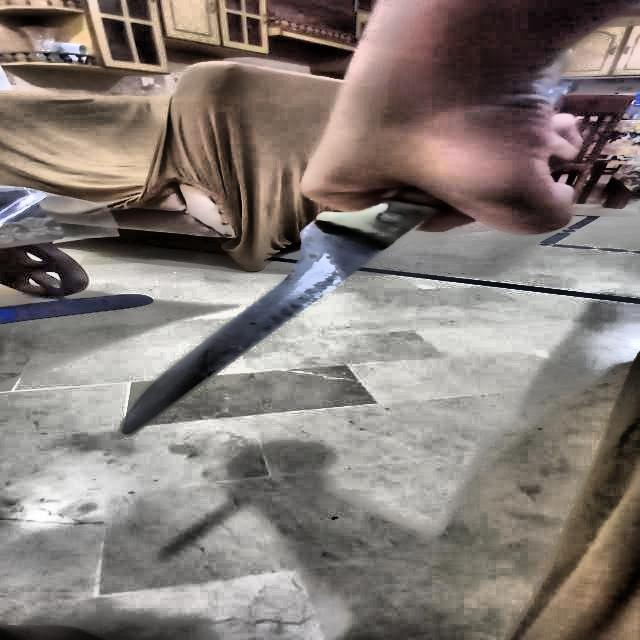knife: (124, 184, 440, 435)
